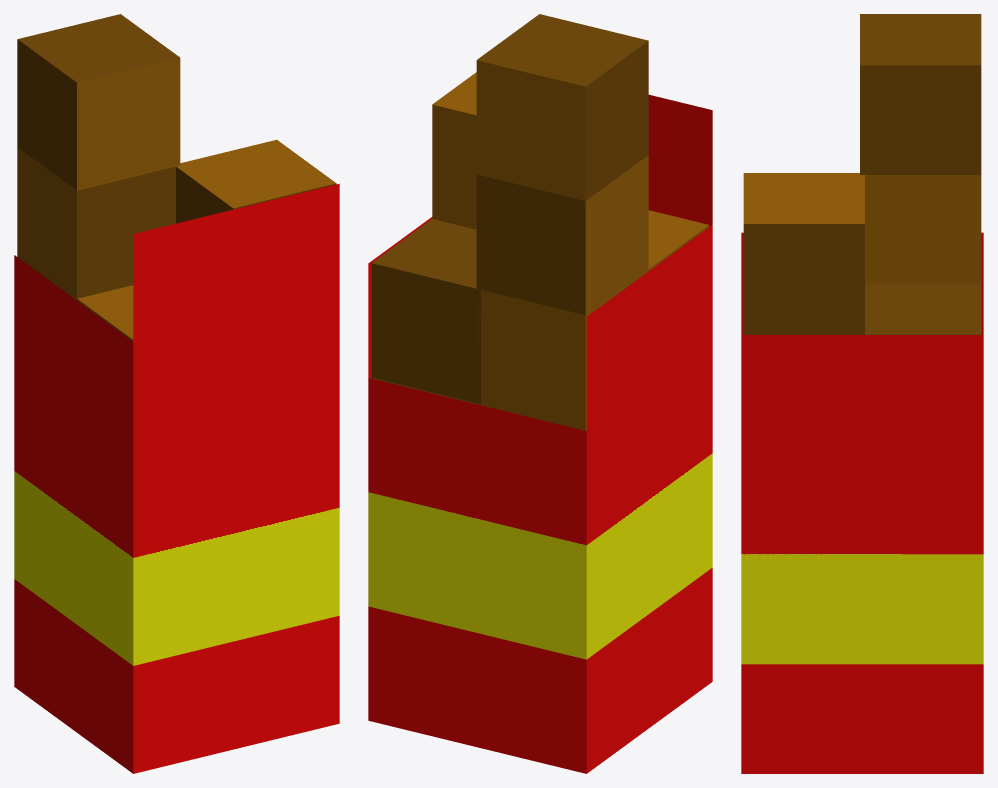
Rendered from breadsticks.obj.
3 views of the same model, side by side, from view 1: azimuth 30°, elevation 25°; view 2: azimuth 150°, elevation 25°; view 3: azimuth 270°, elevation 25° (orthographic). The views are drawn at different scales.
Parts seen in each view (by area): view 1: cube; view 2: cube; view 3: cube.
Boxes of the visible parts, x1,y1,x2,y2 form: cube: (14, 14, 339, 773); cube: (368, 14, 712, 773); cube: (741, 14, 983, 773).
Bounding box in the file's own units: 0.125 × 0.375 × 0.125.
Materials: 2 (2 with a texture image).
